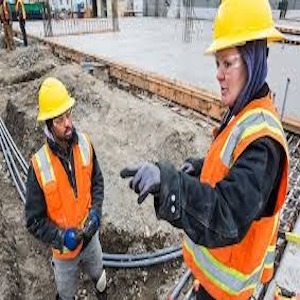safety: (206, 2, 277, 52), (38, 76, 75, 120)
vest: (187, 97, 287, 294), (38, 132, 95, 258)
